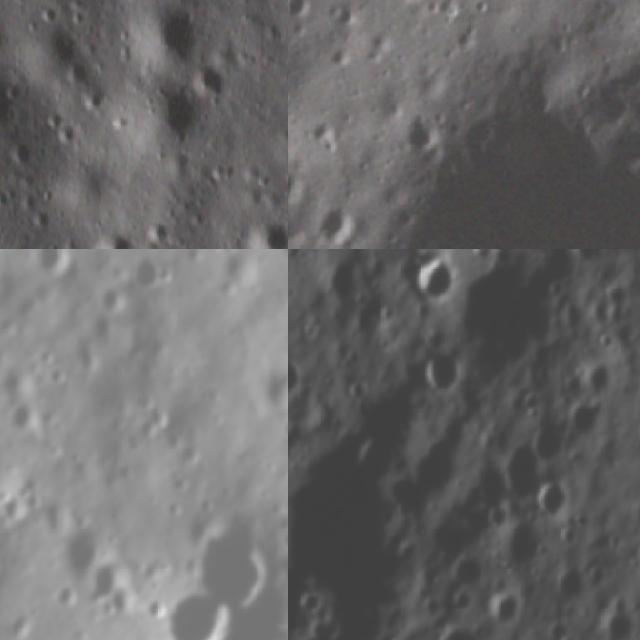crater: (356, 75, 640, 249), (288, 442, 410, 623), (189, 509, 288, 604), (57, 506, 115, 585), (161, 584, 242, 640), (88, 545, 148, 618), (143, 0, 207, 66), (141, 84, 206, 145), (493, 516, 549, 575), (190, 51, 242, 112), (503, 444, 546, 507), (319, 194, 366, 249), (322, 249, 367, 306), (420, 349, 462, 403), (414, 254, 454, 308), (402, 110, 444, 160), (255, 352, 288, 412), (7, 393, 48, 441), (552, 568, 594, 614), (562, 399, 607, 441), (130, 249, 173, 292), (532, 482, 578, 522), (133, 398, 177, 439), (485, 590, 525, 635), (526, 424, 570, 464), (239, 215, 288, 249), (362, 21, 400, 62), (96, 278, 137, 316), (288, 161, 316, 216), (580, 363, 618, 403), (308, 113, 347, 151), (29, 249, 80, 278), (593, 611, 639, 640), (324, 0, 362, 35), (0, 71, 20, 131), (288, 353, 312, 402), (88, 226, 134, 249), (566, 249, 611, 272), (0, 449, 12, 513), (288, 0, 317, 25), (48, 359, 73, 387), (433, 629, 479, 640), (628, 493, 640, 533), (40, 342, 58, 367), (473, 0, 493, 20)
